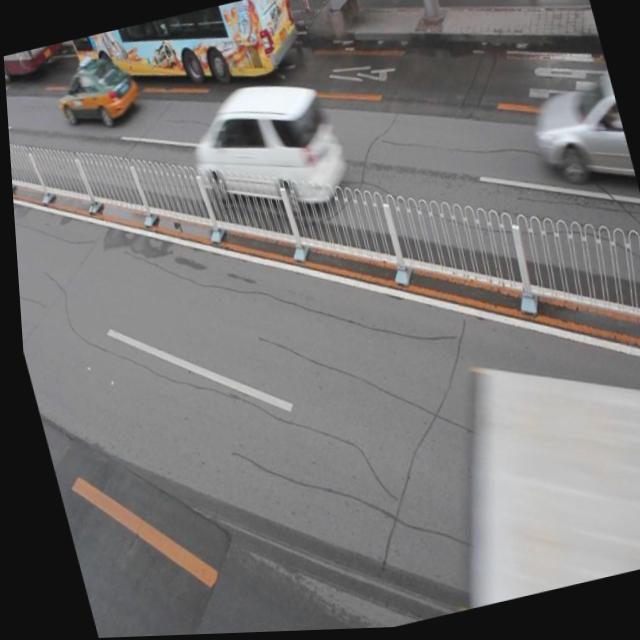car: (519, 74, 634, 201), (49, 50, 145, 136)
truck: (179, 71, 352, 235)
van: (413, 331, 640, 612), (66, 0, 304, 118), (2, 42, 68, 92)
